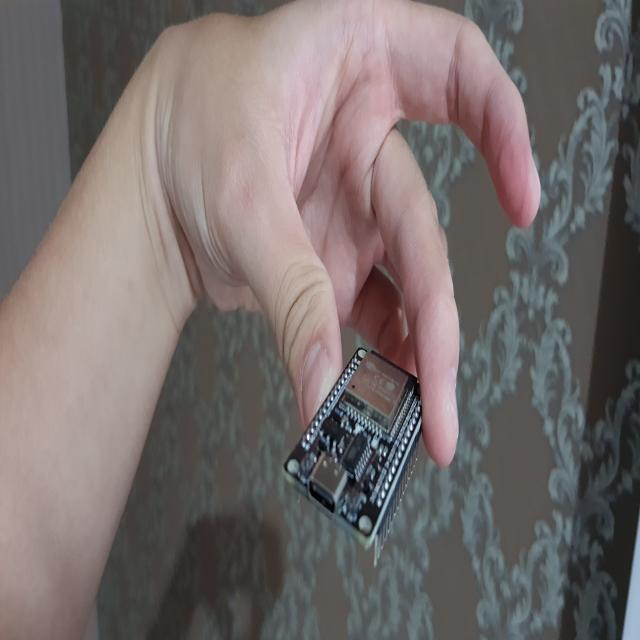ESP32: (284, 347, 422, 556)
